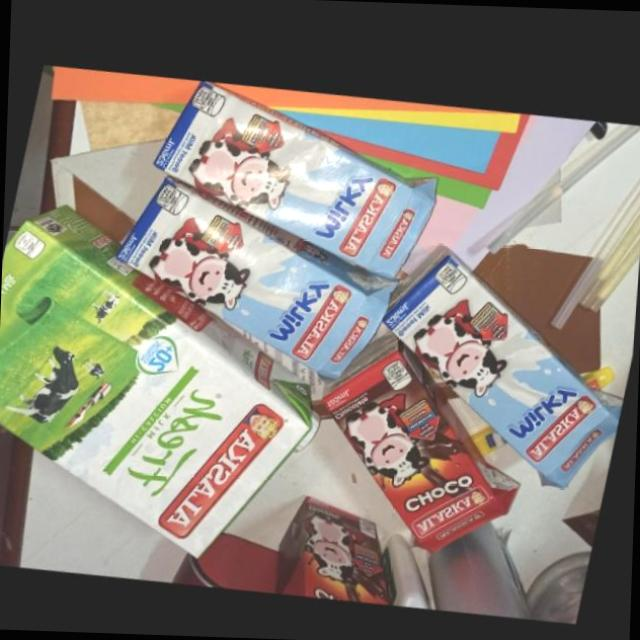vo_hop_sua: (0, 196, 322, 551), (384, 243, 625, 488), (116, 168, 402, 374), (155, 74, 438, 273), (325, 335, 524, 551), (279, 492, 393, 602)
